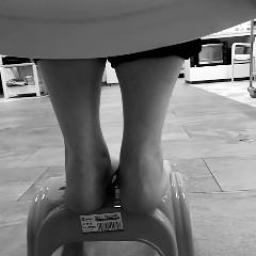Back View -Both Feet-: (48, 124, 186, 225)
